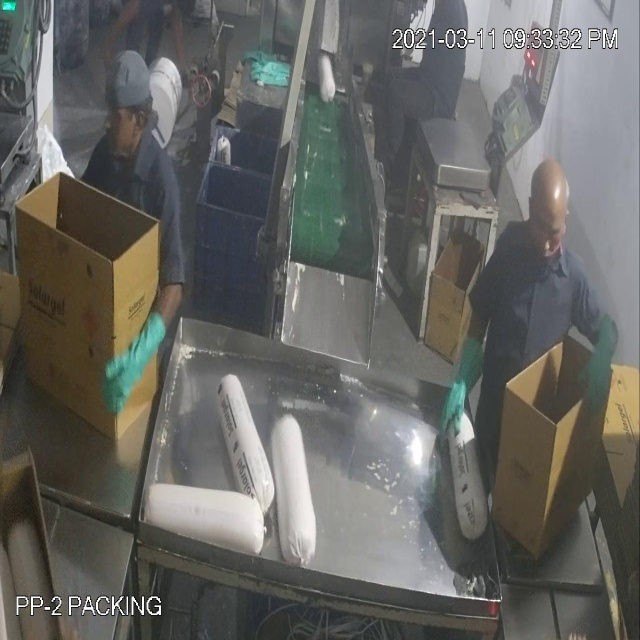Guantes: (98, 296, 164, 421), (436, 323, 491, 453), (580, 320, 618, 419)
Sin_guantes: (163, 10, 192, 74)
